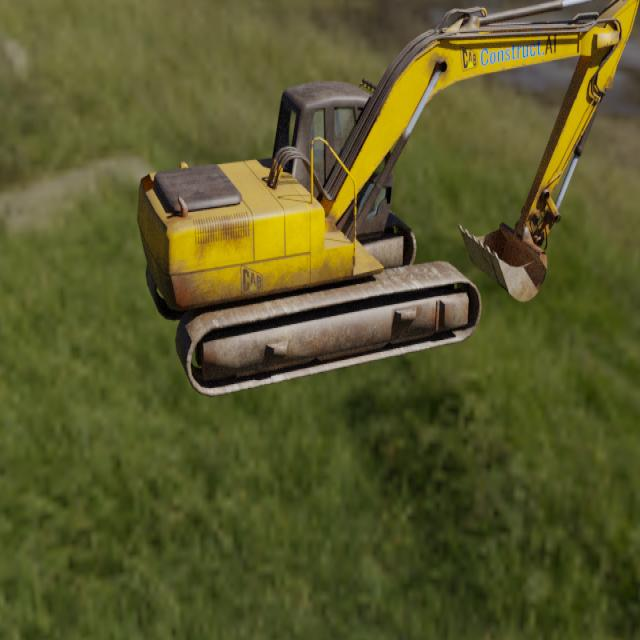excavator: (136, 0, 640, 399)
